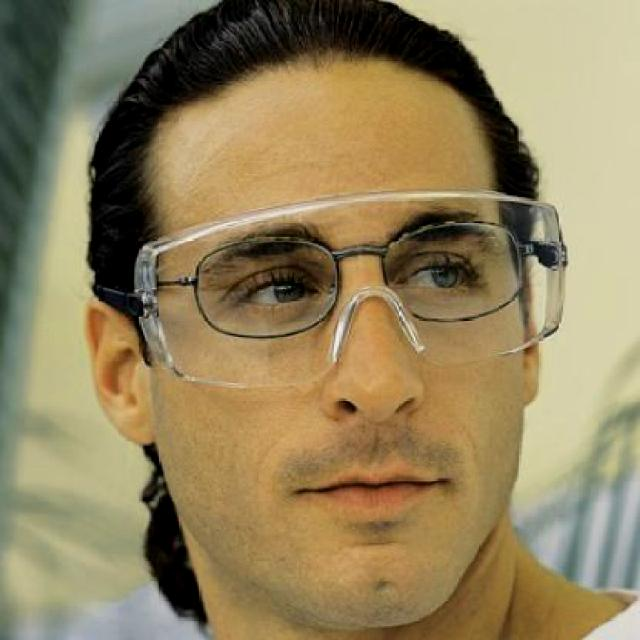face_nomask: (195, 229, 510, 562)
glasses: (131, 186, 567, 394), (180, 215, 532, 354)
head_nohelmet: (119, 0, 516, 134)
